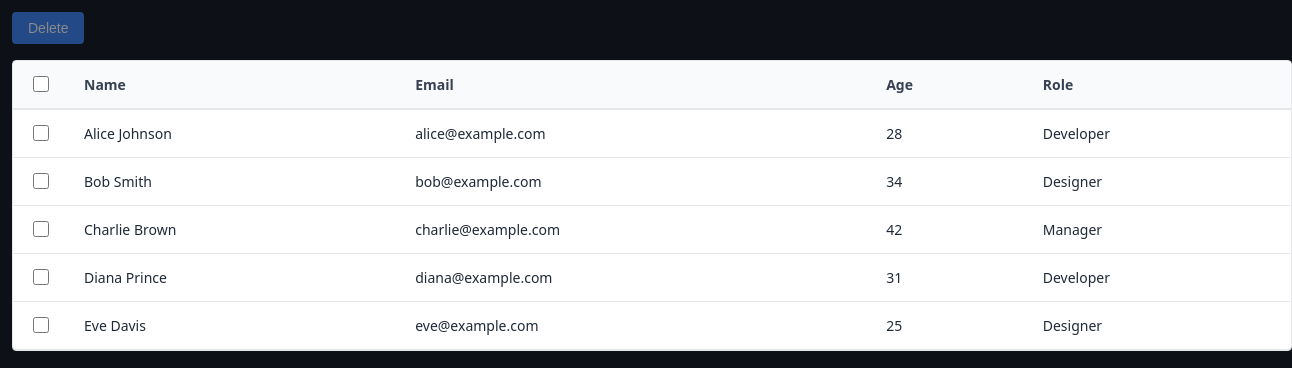
Test: UIForgeGrid › Action Buttons › enables button when requiresSelection is true and rows are selected
expect the button "Delete" is disabled: met, box [12,12,84,44]
// Select a row
Click the checkbox named "Select row 1": {"x": 41, "y": 133} [33,125,49,141]
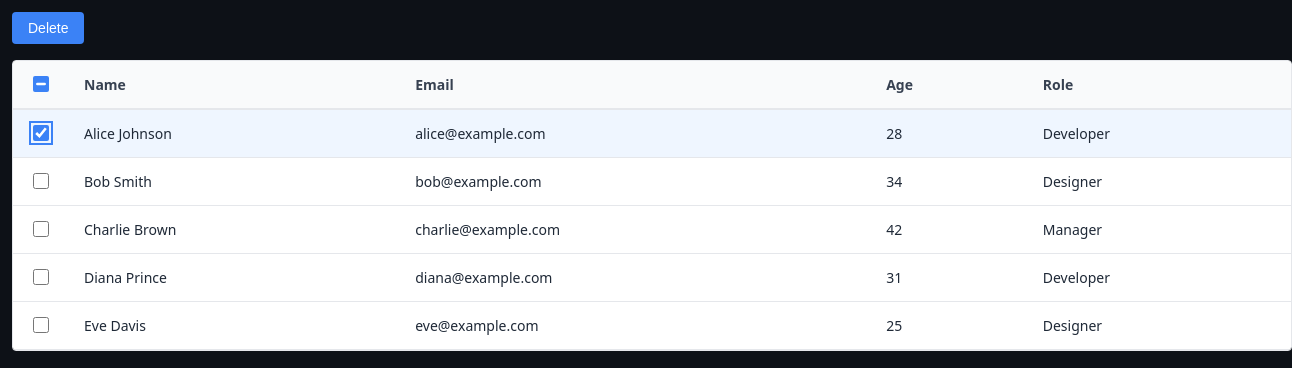
expect the button "Delete" is enabled: met, box [12,12,84,44]
